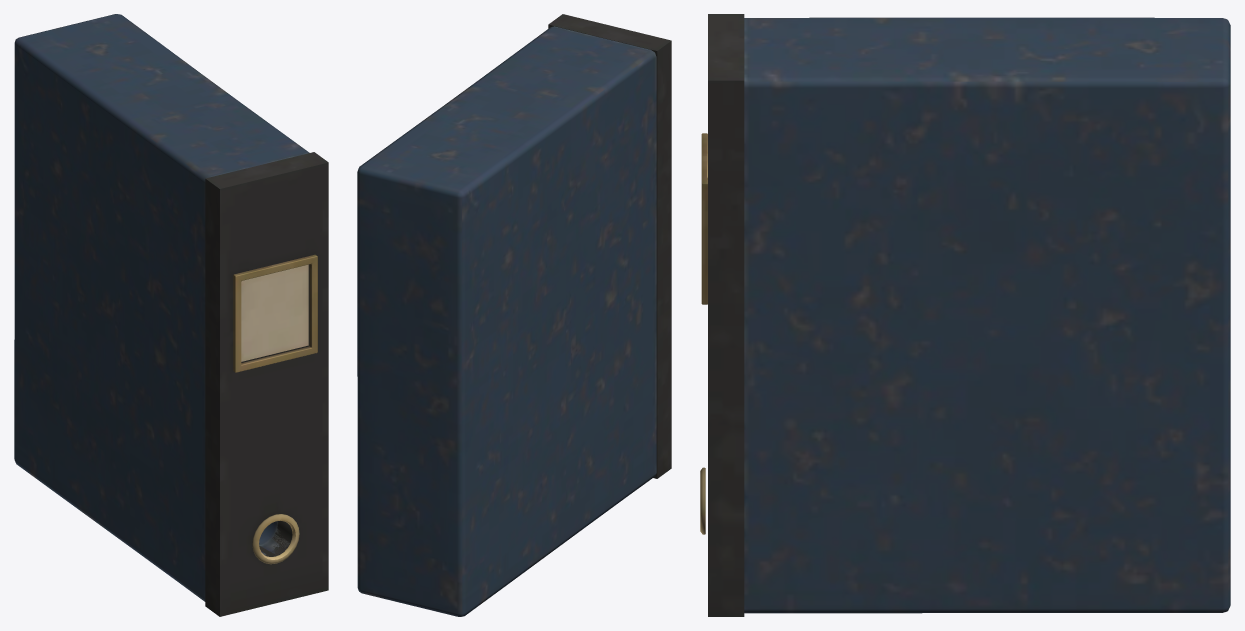
3 views of the same model, side by side, from view 1: azimuth 30°, elevation 25°; view 2: azimuth 150°, elevation 25°; view 3: azimuth 270°, elevation 25° (orthographic). The views are drawn at different scales.
Visible parts, largest first — view 1: box_file; view 2: box_file; view 3: box_file.
Boxes of the visible parts, x1,y1,x2,y2 form: box_file: (14,14,328,616); box_file: (357,14,671,616); box_file: (700,14,1230,616).
Bounding box in the file's own units: 0.087 × 0.3264 × 0.2926.
1 material, 1 textured.
